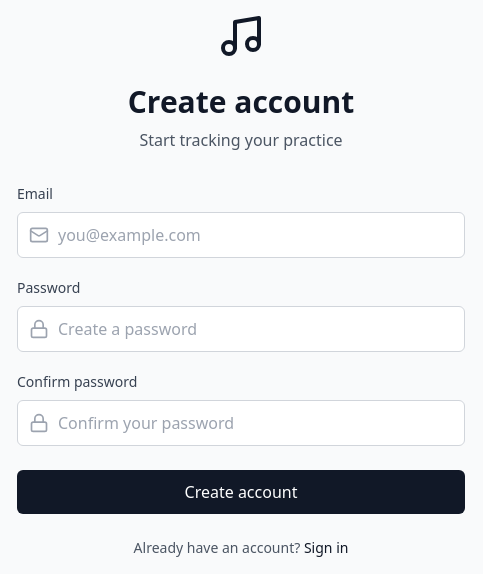
Scenario: Signup › disables the button and shows loading text while submitting
The width and height of the screenshot is (483, 574).
In the field labelled "Email": (241, 235) [17, 212, 465, 258], type "test@example.com"
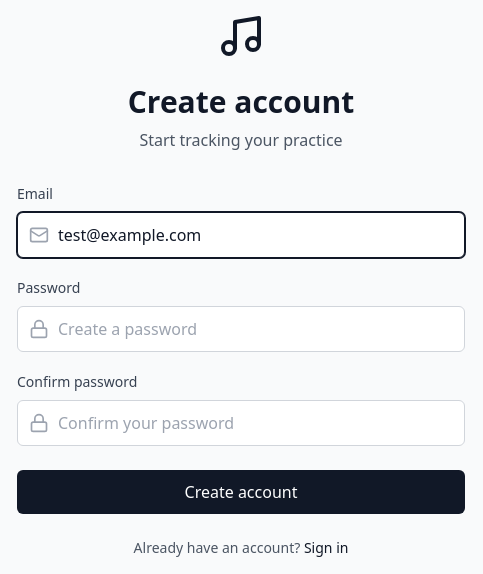
In the password field labelled "Password": (241, 329) [17, 306, 465, 352], type "password123"
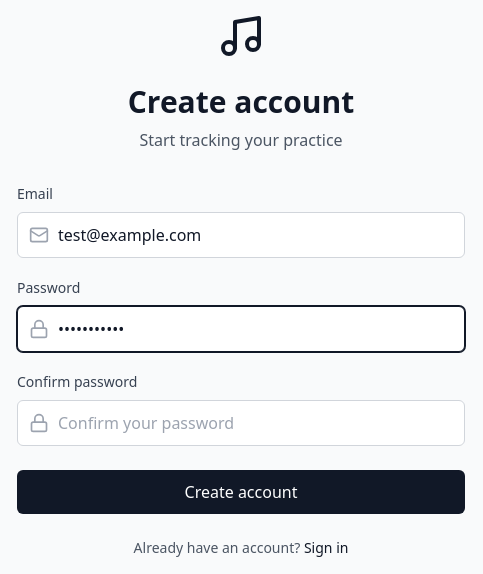
In the password field labelled "Confirm password": (241, 423) [17, 400, 465, 446], type "password123"
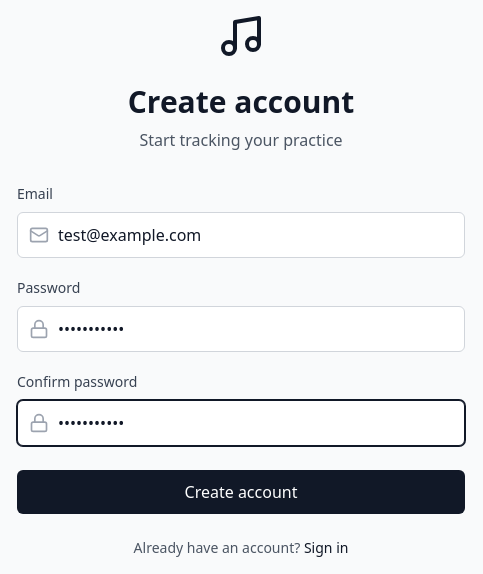
Click the button "Create account": (241, 492) [17, 470, 465, 514]
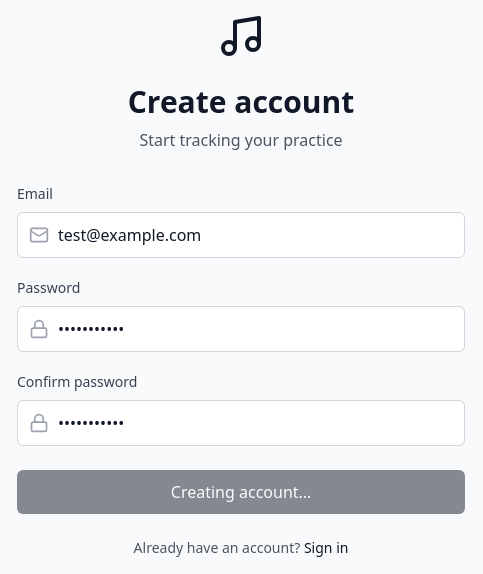
expect the button "Creating account…" is disabled: met, box [17, 470, 465, 514]
